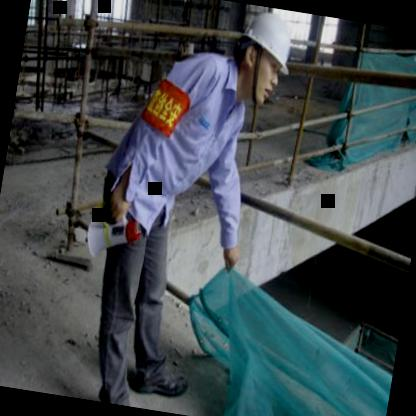helmet: (226, 2, 303, 110)
